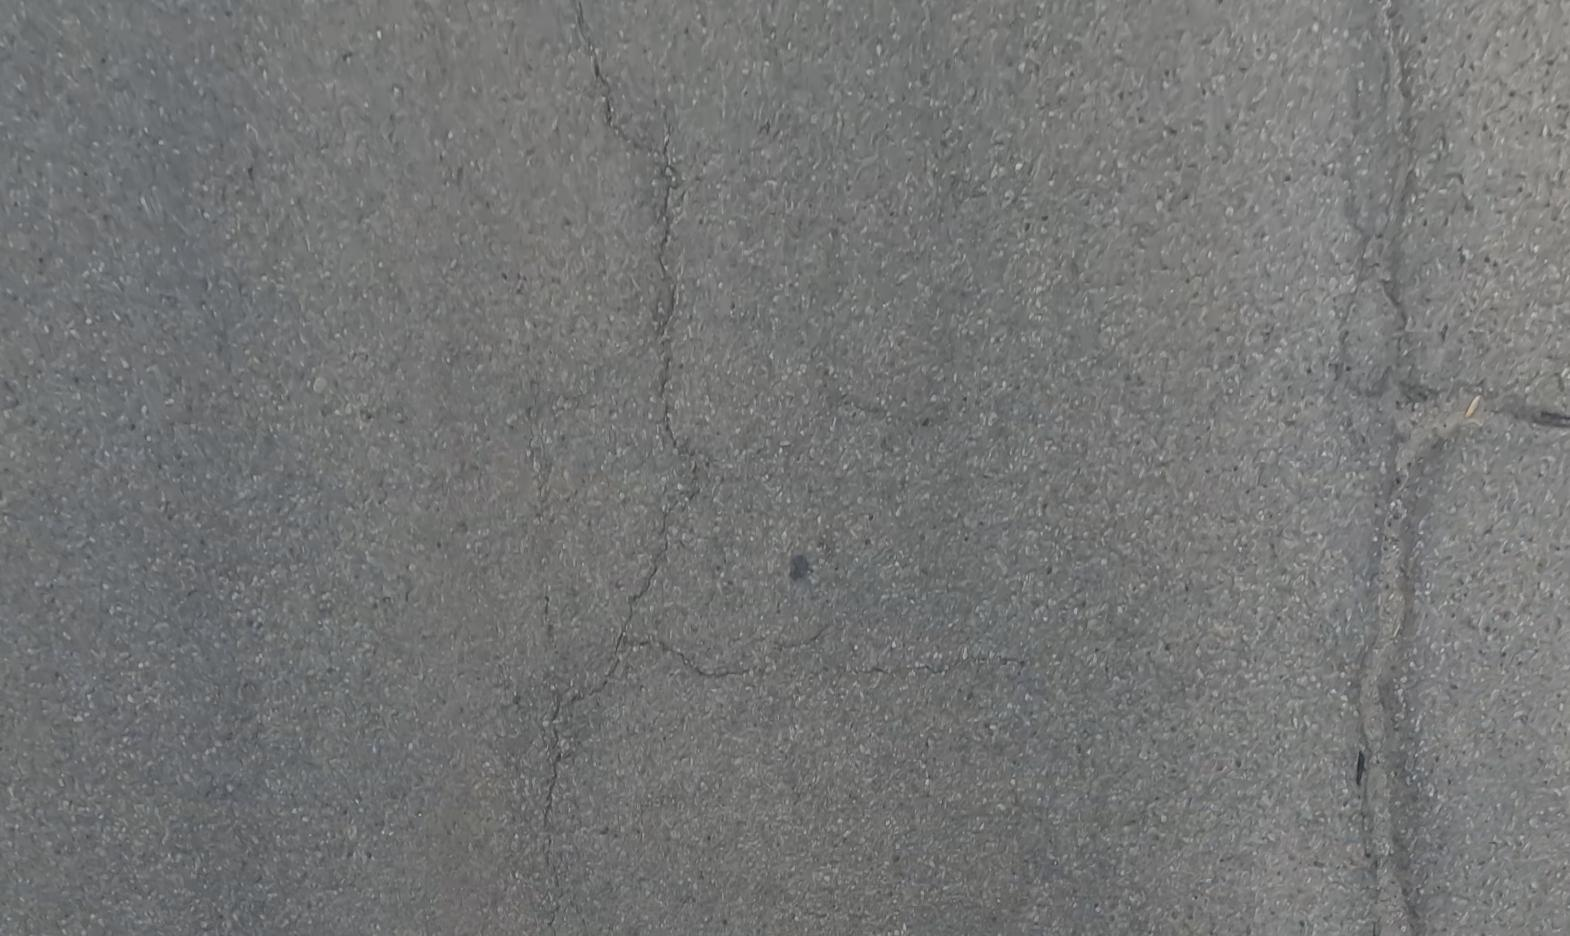pothole: (1362, 388, 1519, 935)
